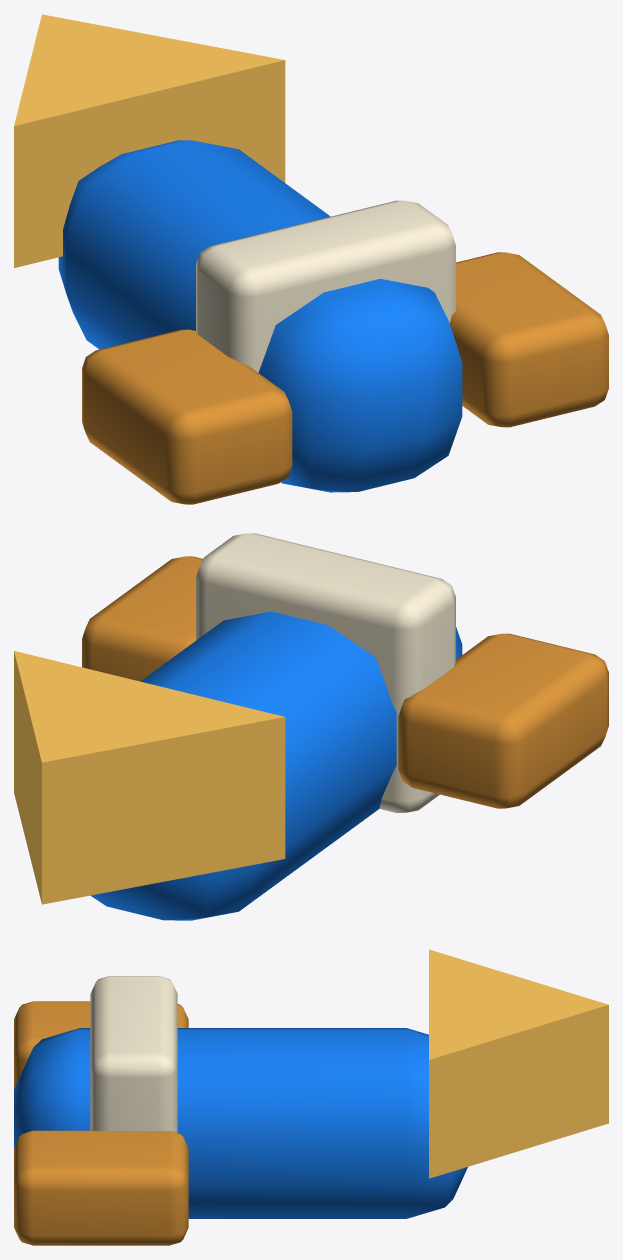
File: Power_Rail.fbx
3 renders of one model, top to bottom at view 1: azimuth 30°, elevation 25°; view 2: azimuth 150°, elevation 25°; view 3: azimuth 270°, elevation 25°, orthographic. The views are drawn at different scales.
Parts seen in each view (by area): view 1: Rail_body, Rail_nose, Rail_fin, Rail_band, Rail_fin.001; view 2: Rail_nose, Rail_body, Rail_fin, Rail_band, Rail_fin.001; view 3: Rail_body, Rail_nose, Rail_fin.001, Rail_band, Rail_fin.
Part boxes in pixels (<box>): Rail_body: <box>58,140,462,492</box>; Rail_nose: <box>14,14,285,267</box>; Rail_fin: <box>82,329,292,504</box>; Rail_band: <box>196,200,455,372</box>; Rail_fin.001: <box>449,252,608,427</box>; Rail_nose: <box>14,651,285,904</box>; Rail_body: <box>91,611,462,920</box>; Rail_fin: <box>398,633,608,808</box>; Rail_band: <box>196,533,455,813</box>; Rail_fin.001: <box>82,556,202,681</box>; Rail_body: <box>14,1028,467,1218</box>; Rail_nose: <box>429,949,608,1178</box>; Rail_fin.001: <box>14,1130,188,1245</box>; Rail_band: <box>90,976,177,1132</box>; Rail_fin: <box>14,1001,188,1088</box>.
Bounding box in the file's own units: 78 × 40.5 × 109.
